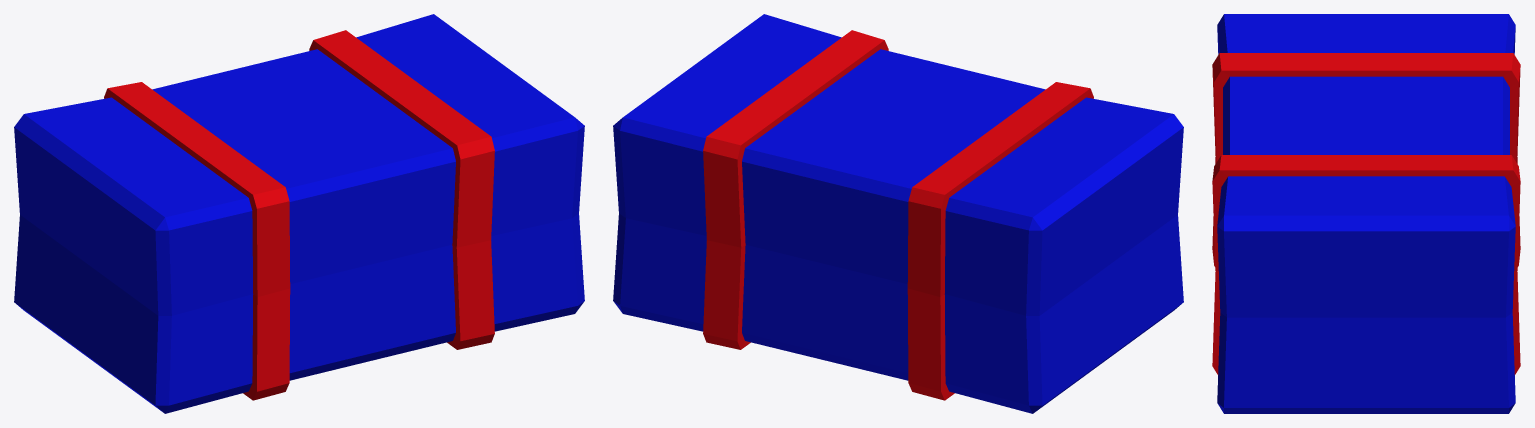
Rendered from SM_HayStack1.fbx.
3 views of the same model, side by side, from view 1: azimuth 30°, elevation 25°; view 2: azimuth 150°, elevation 25°; view 3: azimuth 270°, elevation 25° (orthographic).
Visible parts, largest first — view 1: SM_HayStack1; view 2: SM_HayStack1; view 3: SM_HayStack1.
Boxes of the visible parts, box(x1,y1,x2,y2) form: SM_HayStack1: box(14, 14, 584, 413); SM_HayStack1: box(613, 14, 1183, 413); SM_HayStack1: box(1212, 14, 1520, 413).
Size of the model in its own units: 49.24 by 22.55 by 30.35.
